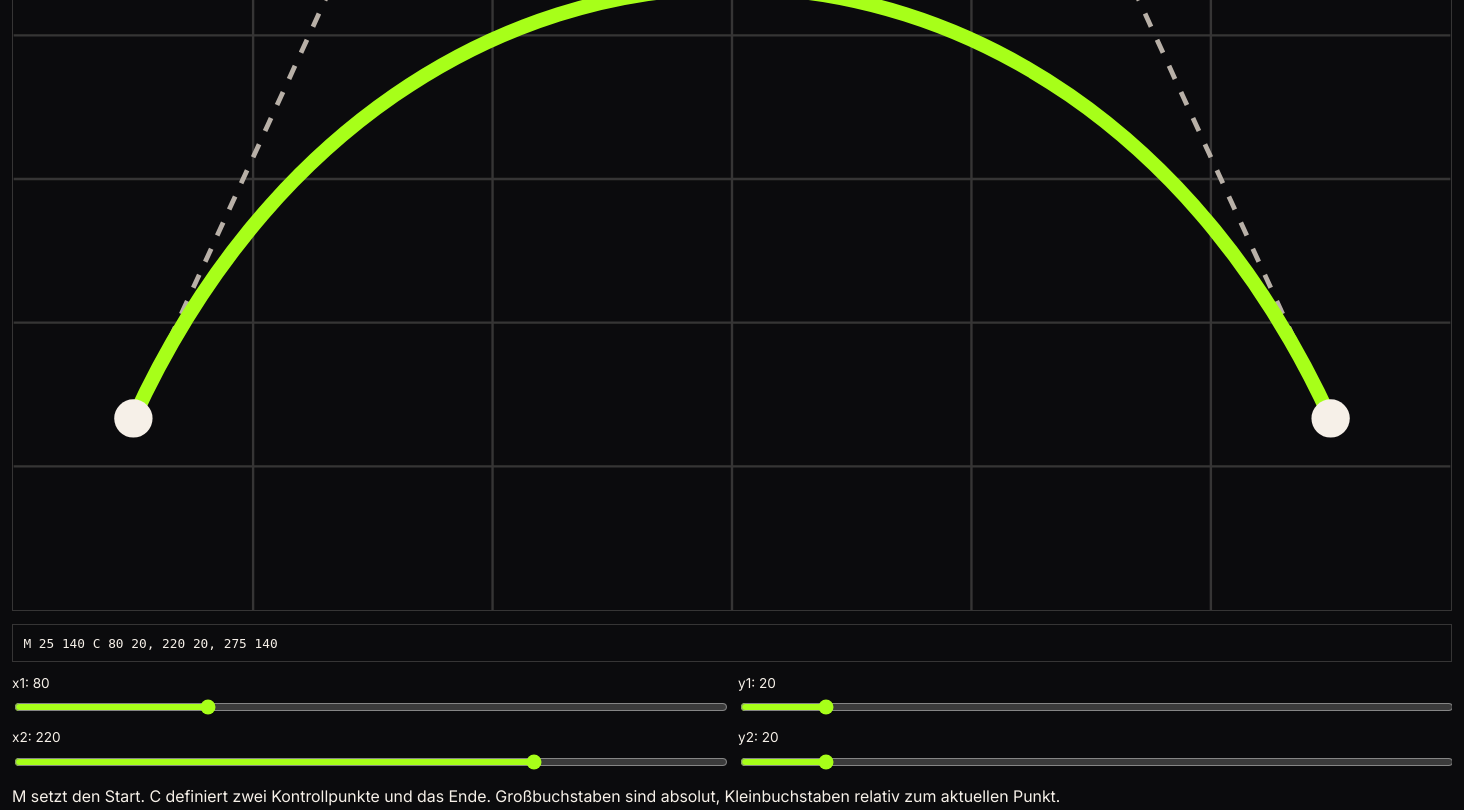
Test: SnippetLabComponent › verbindet native Regler, Pfad und Kontrollpunkt ohne Mausbedienung
(page scrolled)
Set the slider labelled "y1: 20" to "110" at (1173, 707), box [740,699,1452,715]
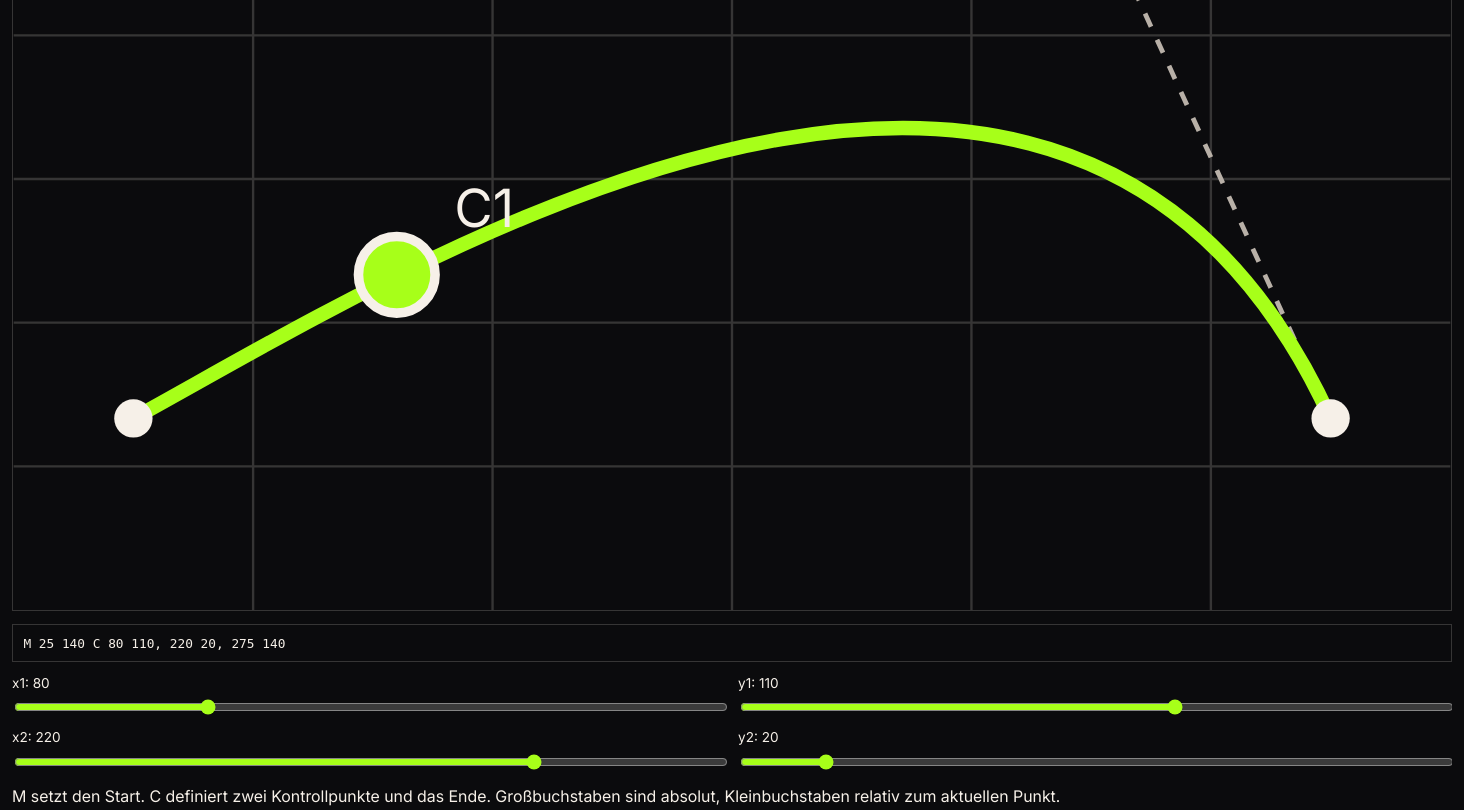
Check: the text "M 25 140 C 80 110, 220 20, 275 140" is shown, box [12,624,1452,662]
Check: the text "80 110" is shown, box [23,636,285,651]
